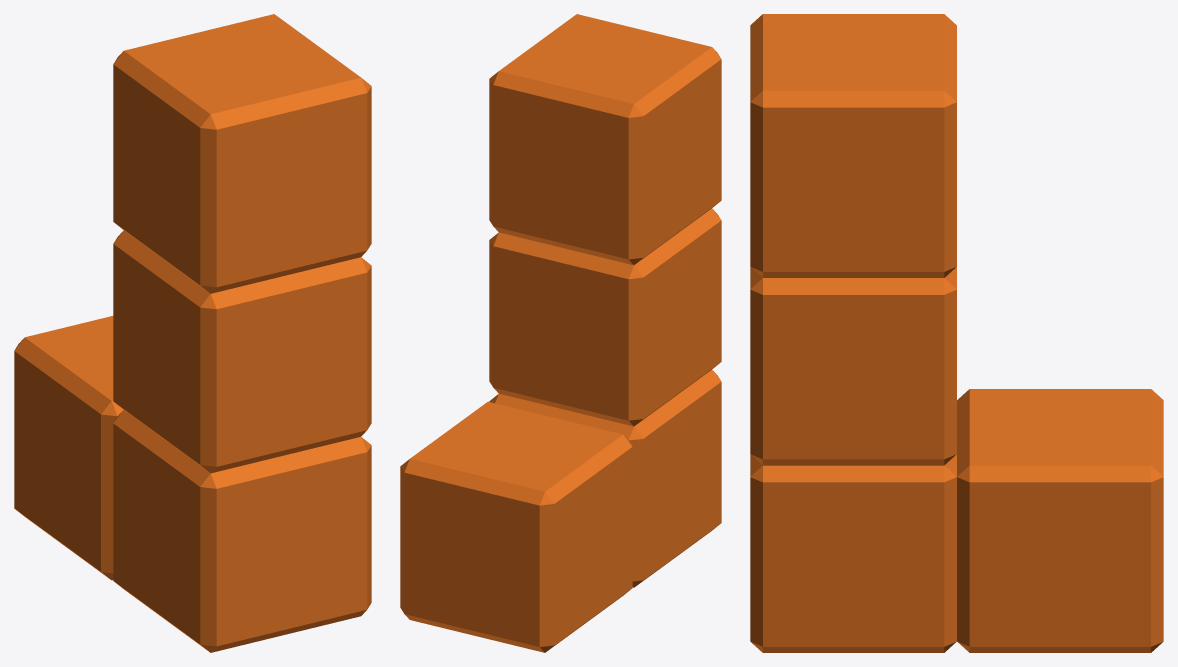
The model's file is TetriminoL.fbx.
The picture shows the model from 3 angles, left to right: view 1: azimuth 30°, elevation 25°; view 2: azimuth 150°, elevation 25°; view 3: azimuth 270°, elevation 25°; orthographic projection. The views are drawn at different scales.
Parts seen in each view (by area): view 1: Cube.003, Cube.002, Cube.000, Cube.001; view 2: Cube.001, Cube.003, Cube.002, Cube.000; view 3: Cube.001, Cube.003, Cube.002, Cube.000.
Boxes of the visible parts, x1,y1,x2,y2 form: Cube.003: (113,14,371,293); Cube.002: (113,230,371,473); Cube.000: (113,410,371,652); Cube.001: (14,316,123,580); Cube.001: (400,401,632,652); Cube.003: (489,14,721,265); Cube.002: (489,208,721,426); Cube.000: (489,370,721,587); Cube.001: (957,389,1163,652); Cube.003: (750,14,956,277); Cube.002: (750,267,956,465); Cube.000: (750,454,956,652).
Size of the model in its own units: 200 by 600 by 400.
